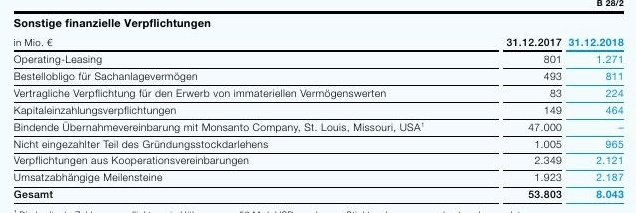table: (0, 0, 636, 213)
